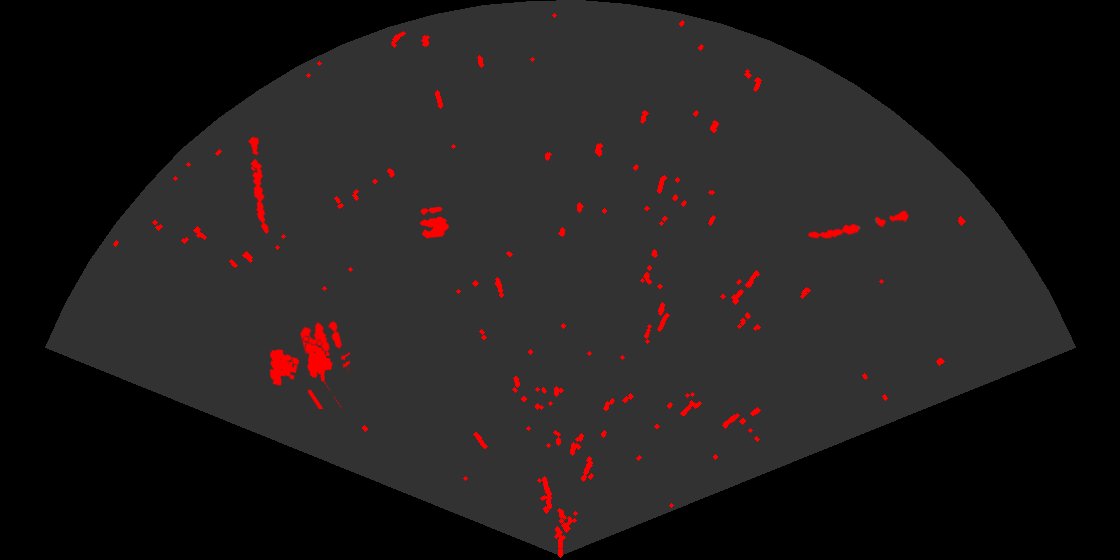ball: (298, 319, 344, 361), (418, 205, 450, 240)
cage: (268, 335, 350, 409)
chain: (806, 209, 911, 241), (247, 135, 270, 235)
